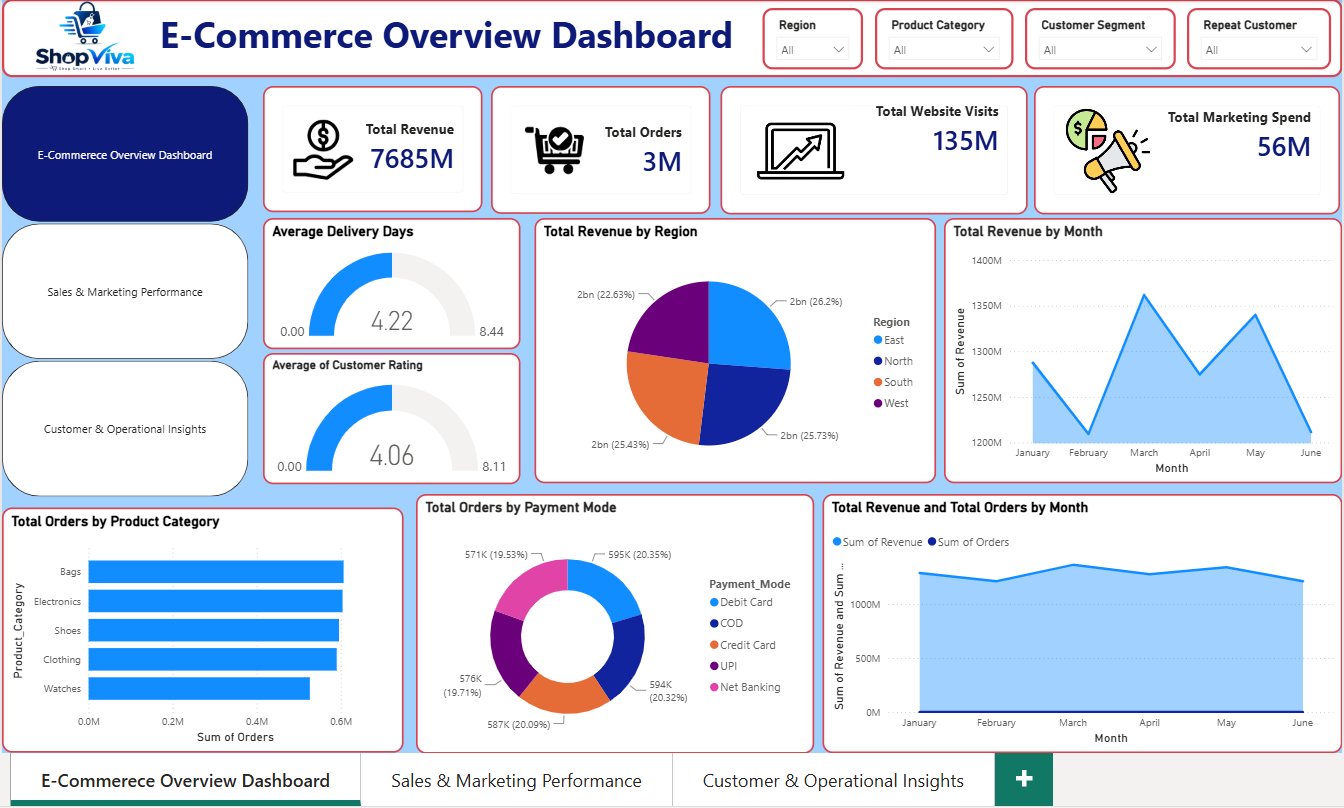

This screenshot's page, from the dashboard's own definition file:
{"tool":"powerbi","page":{"name":"E-Commerece Overview Dashboard","canvas":[1600,900],"ordinal":0},"visuals":[{"type":"textbox","box":[0,0,1600,93.3],"z":0},{"type":"cardVisual","fields":{"Data":["Sum(Sheet.Revenue)"]},"box":[311.3,103.8,262.3,150.9],"z":1000},{"type":"cardVisual","fields":{"Data":["Sum(Sheet.Orders)"]},"box":[583,103.8,262.3,152.8],"z":2000},{"type":"cardVisual","fields":{"Data":["Sum(Sheet.Website_Visits)"]},"box":[858.5,103.8,366.7,153.3],"z":3000},{"type":"cardVisual","fields":{"Data":["Sum(Sheet.Marketing_Spend)"]},"box":[1232.1,103.8,365,153.3],"z":4000},{"type":"gauge","title":"Average Delivery Days","fields":{"Y":["Avg(Sheet.Delivery_Days)"]},"box":[311.3,262.3,307.5,156.6],"z":5000},{"type":"gauge","title":"Average of Customer Rating","fields":{"Y":["Avg(Sheet.Customer_Rating)"]},"box":[311.3,422.6,307.5,156.6],"z":6000},{"type":"barChart","title":"Total Orders by Product Category","fields":{"Y":["Sum(Sheet.Orders)"],"Category":["Sheet.Product_Category"]},"box":[0,607.5,479.2,292.5],"z":7000},{"type":"areaChart","title":"Total Revenue by Month","fields":{"Category":["Sheet.Order_Date.Variation.Date Hierarchy.Month"],"Y":["Sum(Sheet.Revenue)"]},"box":[1124.5,262.3,475.5,317],"z":8000},{"type":"donutChart","title":"Total Orders by Payment Mode","fields":{"Y":["Sum(Sheet.Orders)"],"Category":["Sheet.Payment_Mode"]},"box":[493.3,590,475,310],"z":9000},{"type":"slicer","fields":{"Values":["Sheet.Region"]},"box":[908.3,10,120,73.3],"z":10000},{"type":"slicer","fields":{"Values":["Sheet.Product_Category"]},"box":[1041.7,10,165,73.3],"z":11000},{"type":"slicer","fields":{"Values":["Sheet.Customer_Segment"]},"box":[1221.7,10,180,73.3],"z":12000},{"type":"slicer","fields":{"Values":["Sheet.Repeat_Customer"]},"box":[1415,10,171.7,73.3],"z":13000},{"type":"pieChart","title":"Total Revenue by Region","fields":{"Y":["Sum(Sheet.Revenue)"],"Category":["Sheet.Region"]},"box":[635.8,262.3,479.2,317],"z":14000},{"type":"areaChart","title":"Total Revenue and Total Orders by Month","fields":{"Category":["Sheet.Order_Date.Variation.Date Hierarchy.Month"],"Y":["Sum(Sheet.Revenue)","Sum(Sheet.Orders)"]},"box":[979.2,590.6,620.8,309.4],"z":15000},{"type":"image","box":[0,0,198.3,93.3],"z":16000},{"type":"pageNavigator","box":[0,103.8,294.3,490.6],"z":17000}]}

Visuals, with their boxes in screenshot pixels (x1, y1, x2, y2):
textbox: x1=7 y1=0 x2=1332 y2=77
cardVisual - Sum(Sheet.Revenue): x1=265 y1=86 x2=482 y2=211
cardVisual - Sum(Sheet.Orders): x1=490 y1=86 x2=707 y2=213
cardVisual - Sum(Sheet.Website_Visits): x1=718 y1=86 x2=1022 y2=213
cardVisual - Sum(Sheet.Marketing_Spend): x1=1028 y1=86 x2=1330 y2=213
"Average Delivery Days" gauge: x1=265 y1=217 x2=520 y2=347
"Average of Customer Rating" gauge: x1=265 y1=350 x2=520 y2=480
"Total Orders by Product Category" barChart: x1=7 y1=503 x2=404 y2=746
"Total Revenue by Month" areaChart: x1=939 y1=217 x2=1332 y2=480
"Total Orders by Payment Mode" donutChart: x1=416 y1=489 x2=809 y2=746
slicer - Sheet.Region: x1=759 y1=8 x2=859 y2=69
slicer - Sheet.Product_Category: x1=870 y1=8 x2=1007 y2=69
slicer - Sheet.Customer_Segment: x1=1019 y1=8 x2=1168 y2=69
slicer - Sheet.Repeat_Customer: x1=1179 y1=8 x2=1321 y2=69
"Total Revenue by Region" pieChart: x1=534 y1=217 x2=931 y2=480
"Total Revenue and Total Orders by Month" areaChart: x1=818 y1=489 x2=1332 y2=746
image: x1=7 y1=0 x2=171 y2=77
pageNavigator: x1=7 y1=86 x2=251 y2=492
